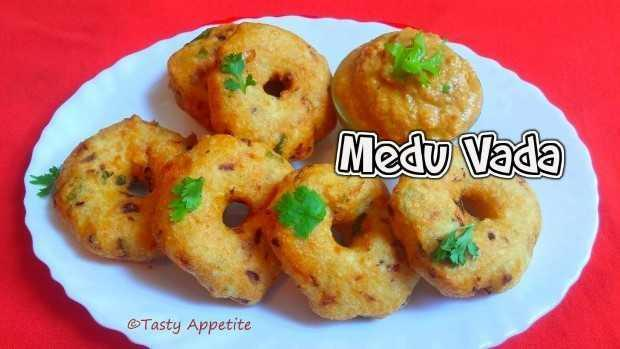mvada: (201, 46, 317, 273)
